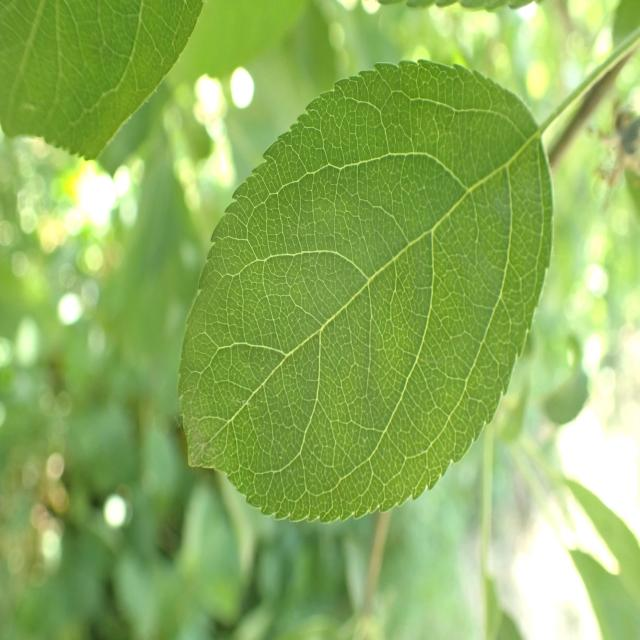healthy: (177, 58, 554, 524), (0, 0, 204, 162)
